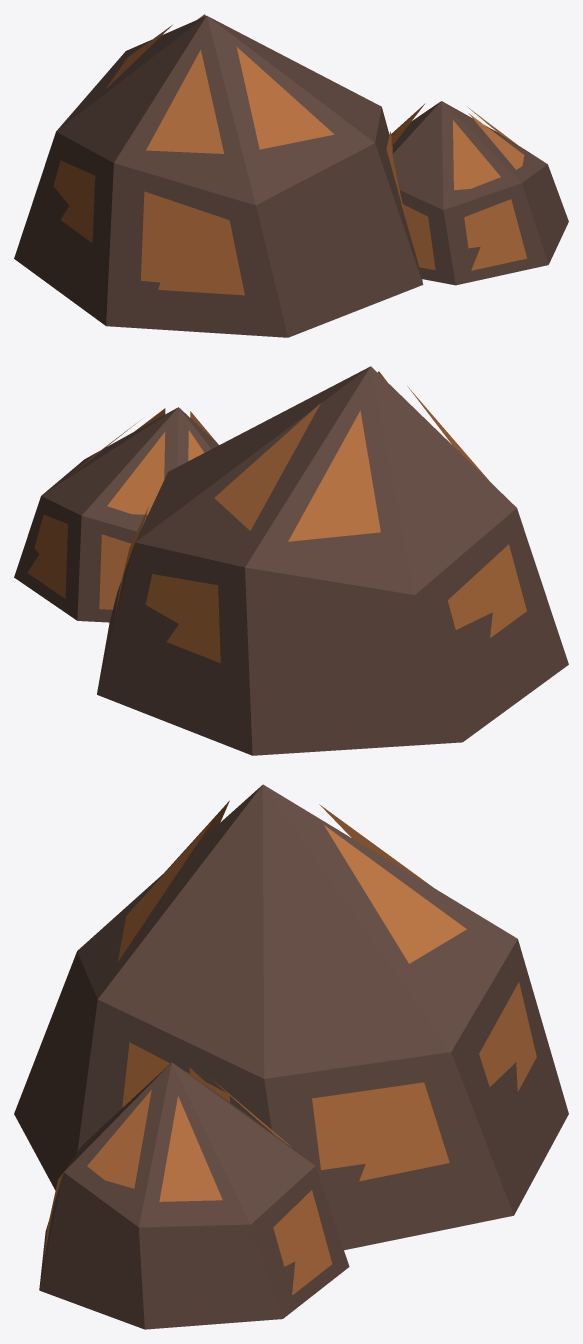
3 renders of one model, top to bottom at view 1: azimuth 30°, elevation 25°; view 2: azimuth 150°, elevation 25°; view 3: azimuth 270°, elevation 25°, orthographic. The views are drawn at different scales.
Visible parts, largest first — view 1: 190836a5a05cd2db9b1c8844f8432f41f0403d878d66602a954f80a27c69; view 2: 190836a5a05cd2db9b1c8844f8432f41f0403d878d66602a954f80a27c69; view 3: 190836a5a05cd2db9b1c8844f8432f41f0403d878d66602a954f80a27c69.
Part boxes in pixels (x1,y1,x2,y2): 190836a5a05cd2db9b1c8844f8432f41f0403d878d66602a954f80a27c69: (14,14,568,337); 190836a5a05cd2db9b1c8844f8432f41f0403d878d66602a954f80a27c69: (14,366,568,755); 190836a5a05cd2db9b1c8844f8432f41f0403d878d66602a954f80a27c69: (14,784,568,1329).
Bounding box in the file's own units: 1.09 × 0.575 × 0.8579.
